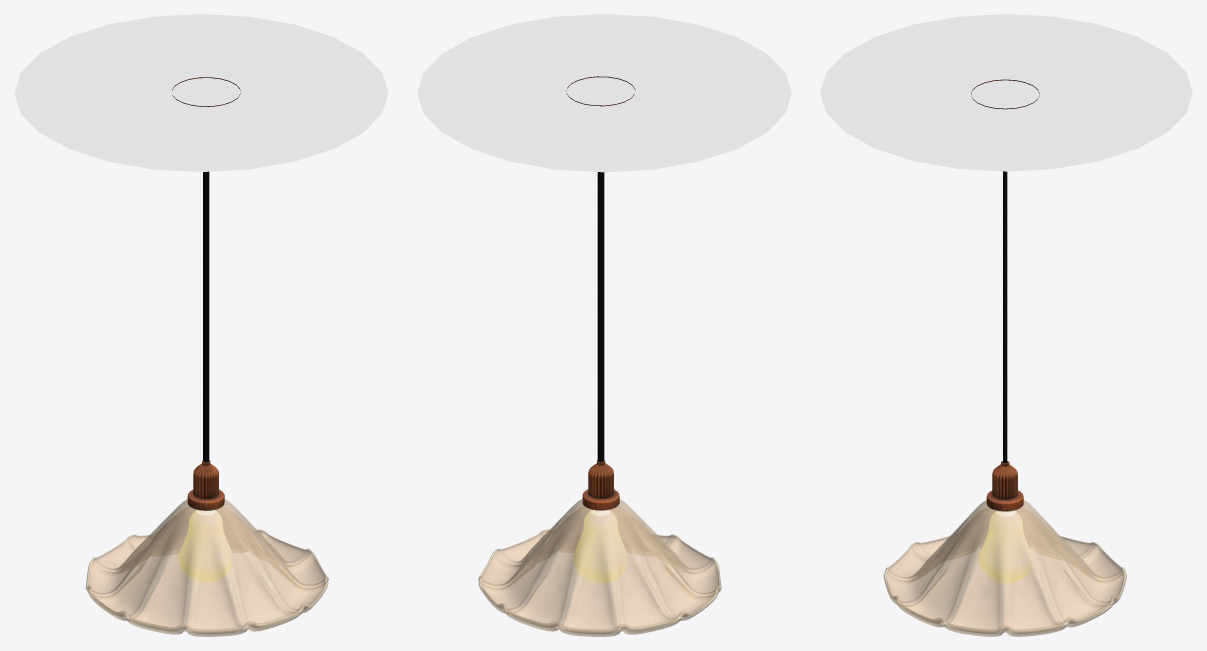
File: Lamp.glb
3 renders of one model, left to right at view 1: azimuth 30°, elevation 25°; view 2: azimuth 150°, elevation 25°; view 3: azimuth 270°, elevation 25°, orthographic.
Visible parts, largest first — view 1: Object_2, Object_3, Object_4; view 2: Object_2, Object_3, Object_4; view 3: Object_2, Object_3, Object_4.
Part boxes in pixels (x1=…): Object_2: x1=14, y1=14, x2=388, y2=171; Object_3: x1=85, y1=77, x2=328, y2=636; Object_4: x1=179, y1=510, x2=232, y2=582; Object_2: x1=417, y1=14, x2=791, y2=172; Object_3: x1=478, y1=76, x2=721, y2=636; Object_4: x1=573, y1=510, x2=627, y2=583; Object_2: x1=820, y1=14, x2=1192, y2=171; Object_3: x1=883, y1=79, x2=1126, y2=636; Object_4: x1=979, y1=510, x2=1032, y2=583.
Bounding box in the file's own units: 80.54 × 119 × 80.54.
3 materials, 1 textured.
